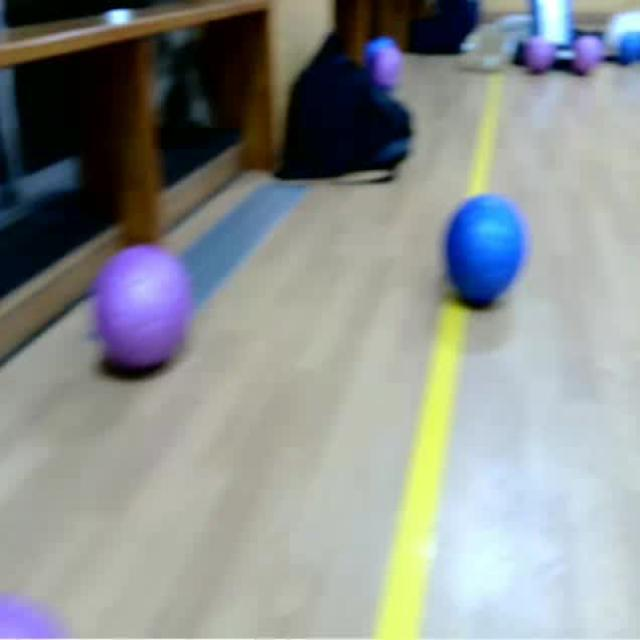blue_ball: (440, 189, 530, 310), (366, 33, 399, 81), (617, 27, 640, 65)
purple_ball: (94, 244, 195, 377), (524, 32, 558, 82), (369, 49, 405, 96), (575, 32, 605, 76)
